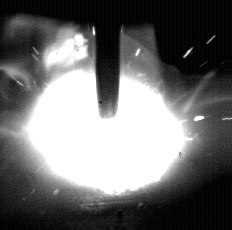arame: (96, 0, 122, 119)
poca: (21, 0, 192, 230)
